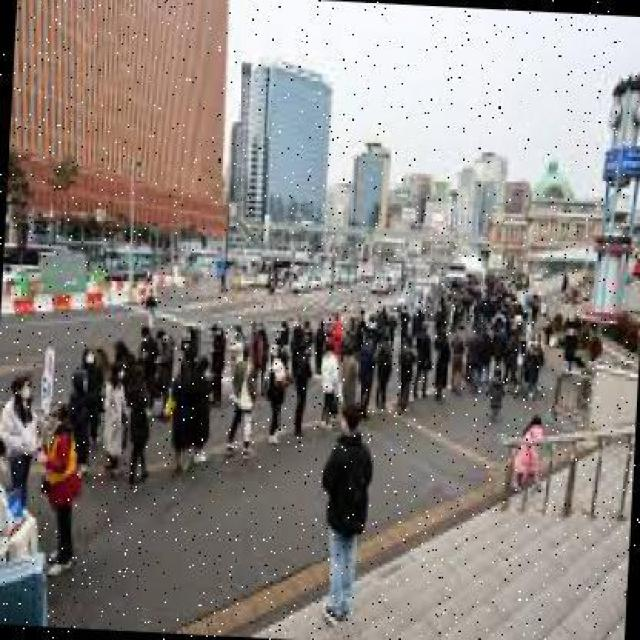Person: (313, 398, 375, 625), (34, 398, 83, 576), (0, 368, 45, 515), (96, 361, 132, 477), (123, 363, 155, 483), (225, 342, 257, 461), (190, 352, 215, 465), (264, 342, 290, 448), (290, 336, 315, 436), (316, 338, 341, 432), (410, 322, 432, 406), (394, 334, 415, 414), (371, 337, 394, 409), (431, 323, 451, 405)
